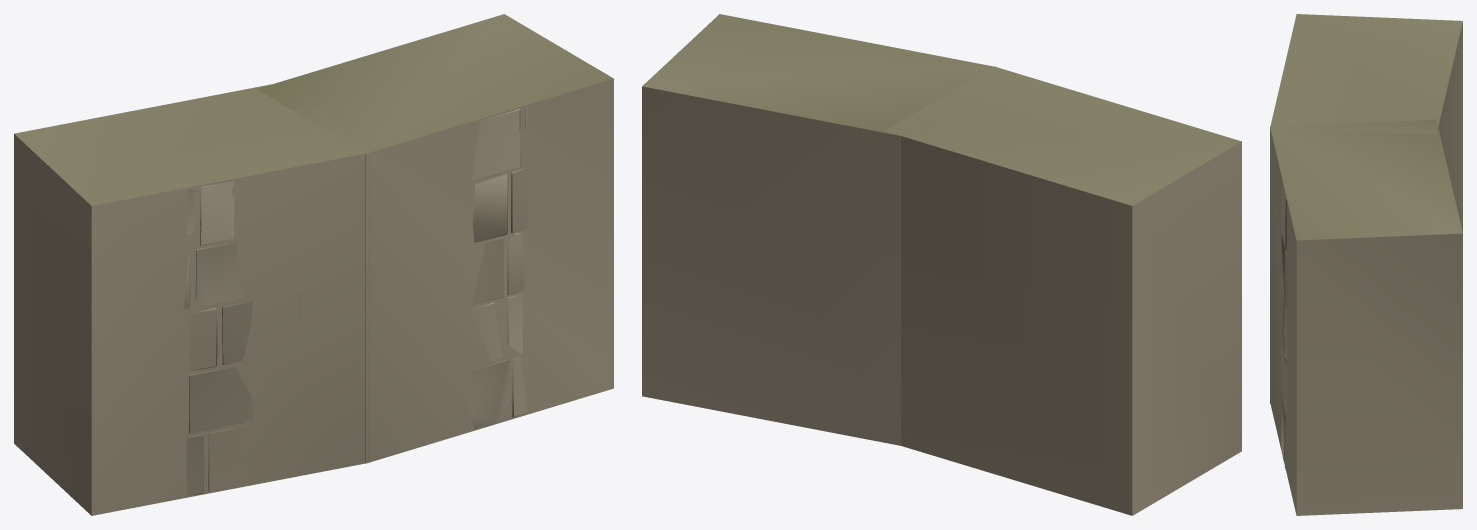
Rendered from dome_footing.glb.
The picture shows the model from 3 angles, left to right: view 1: azimuth 30°, elevation 25°; view 2: azimuth 150°, elevation 25°; view 3: azimuth 270°, elevation 25°; orthographic projection. The views are drawn at different scales.
Visible parts, largest first — view 1: dome_footing_far, dome_footing; view 2: dome_footing_far; view 3: dome_footing_far, dome_footing.
Boxes of the visible parts, x1,y1,x2,y2 form: dome_footing_far: (14,14,613,515); dome_footing: (183,107,528,495); dome_footing_far: (642,14,1241,515); dome_footing_far: (1270,14,1462,515); dome_footing: (1281,182,1287,473).
Size of the model in its own units: 21.16 by 12 by 7.62.
